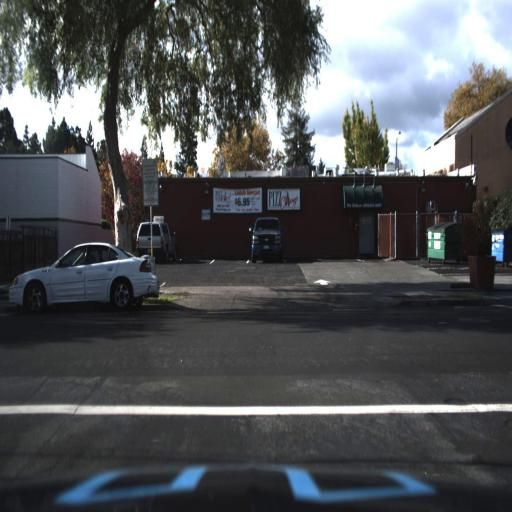car: (4, 236, 164, 322), (248, 214, 285, 265), (133, 219, 173, 259)
